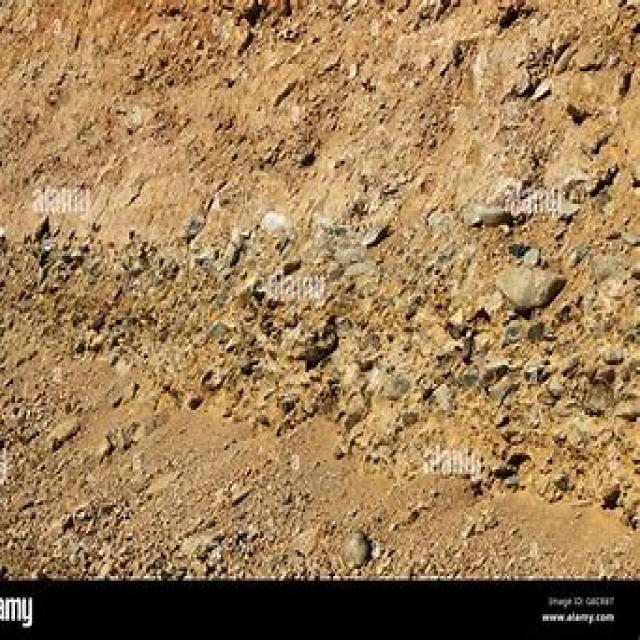Alluvial Soil: (52, 66, 596, 522)
